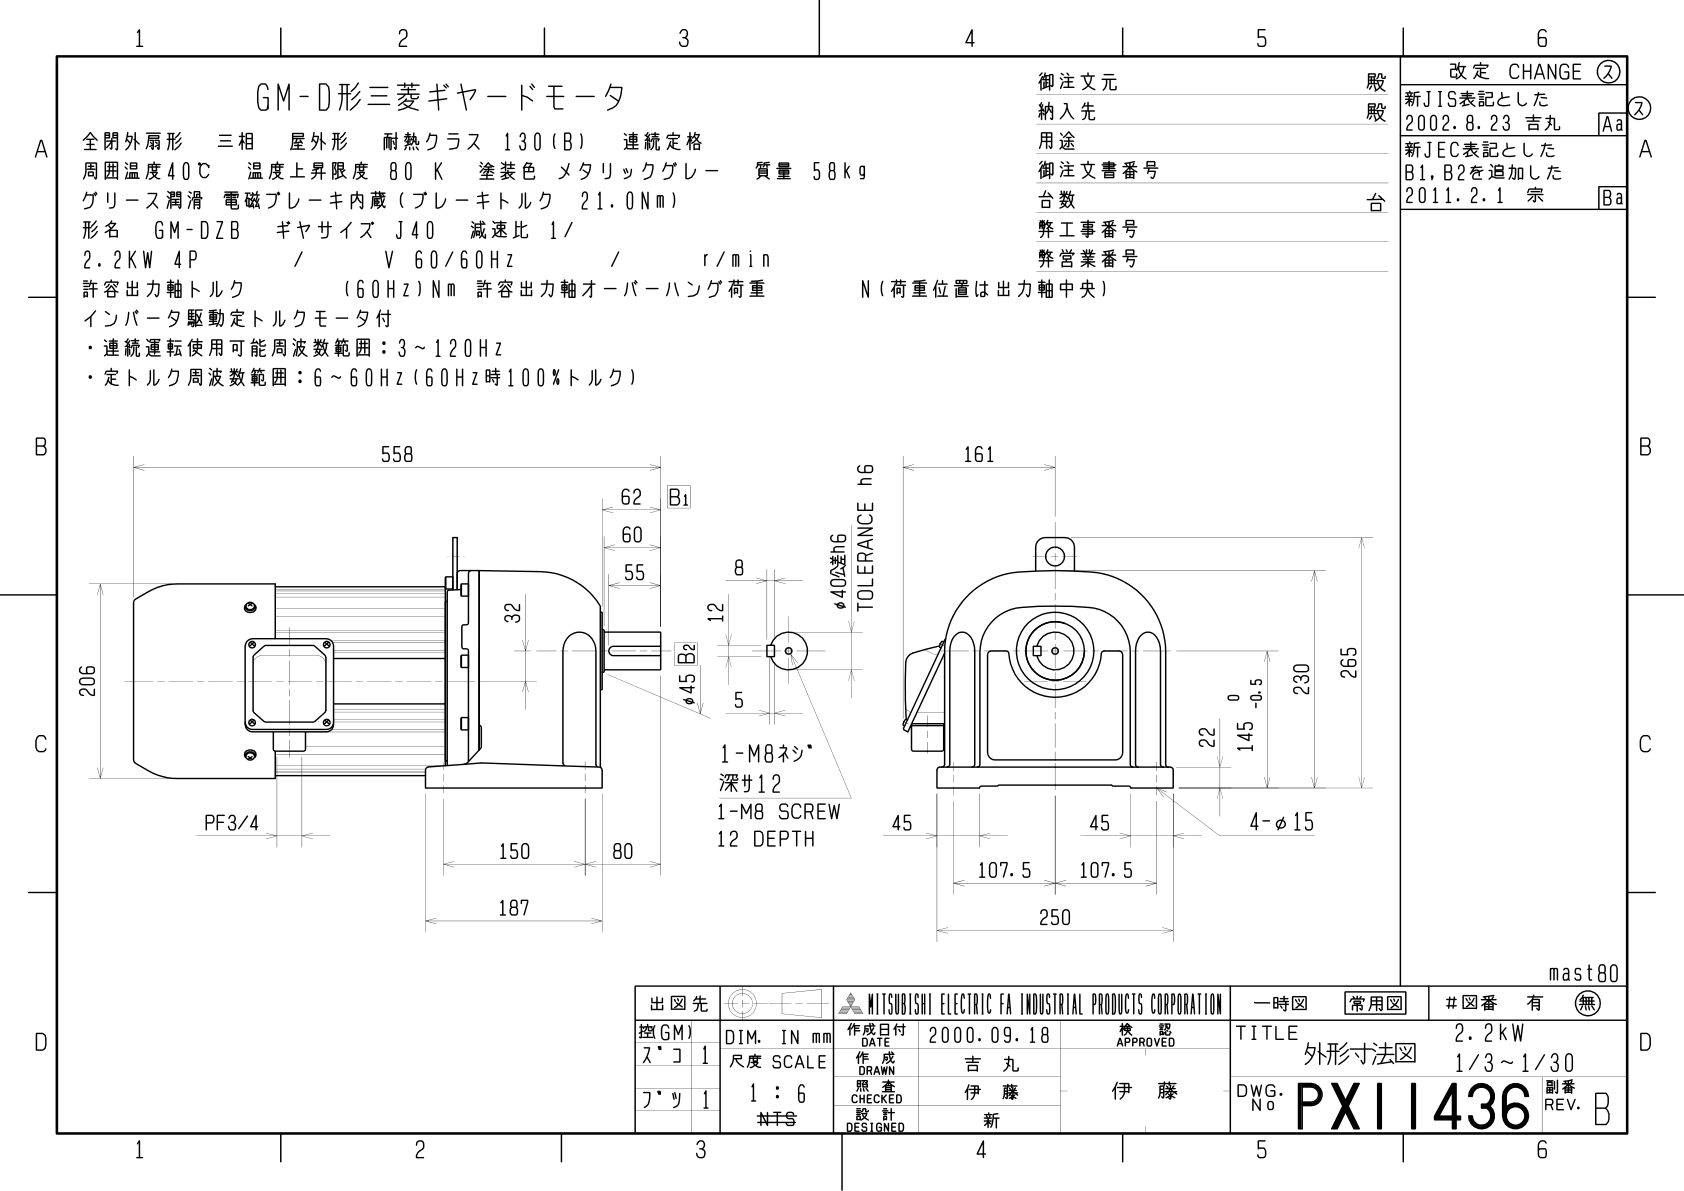GM_D_インバータ屋外_三相_脚: (71, 400, 1383, 967)
